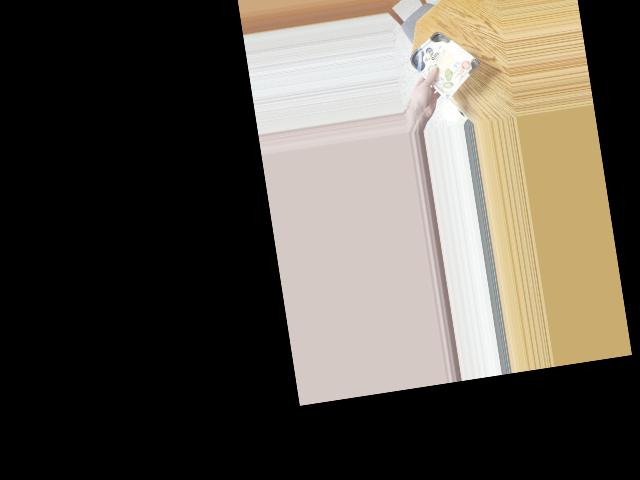cheese: (411, 26, 474, 92)
